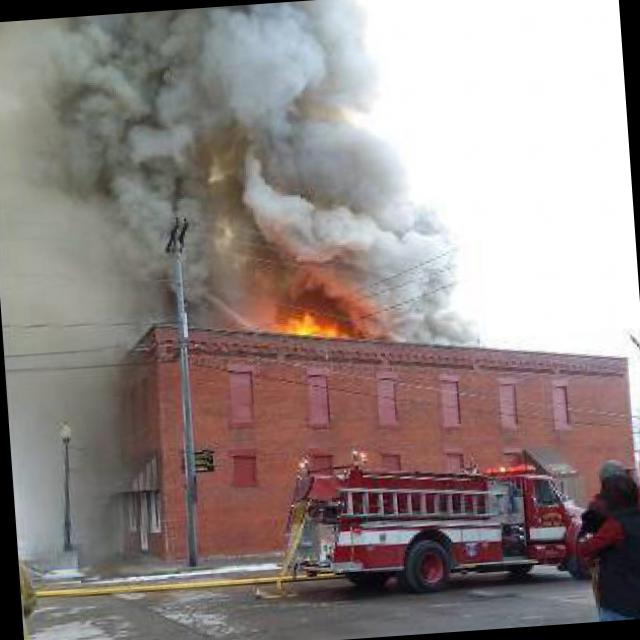fire: (258, 303, 344, 360)
smoke: (0, 211, 142, 566), (330, 150, 506, 350)
